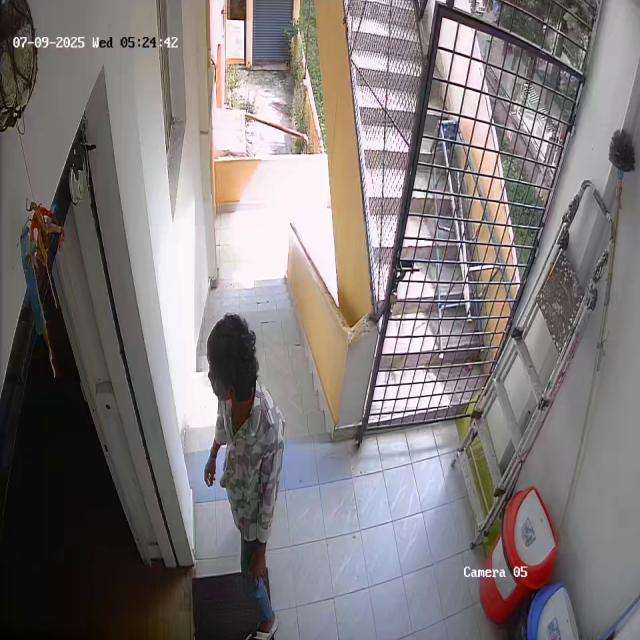person: (190, 309, 289, 640)
